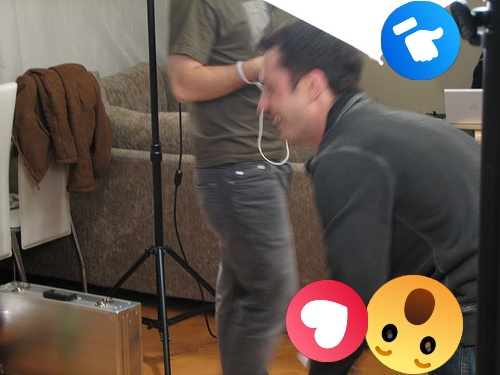like: (381, 1, 460, 80)
love: (286, 280, 368, 362)
wow: (364, 275, 463, 374)
